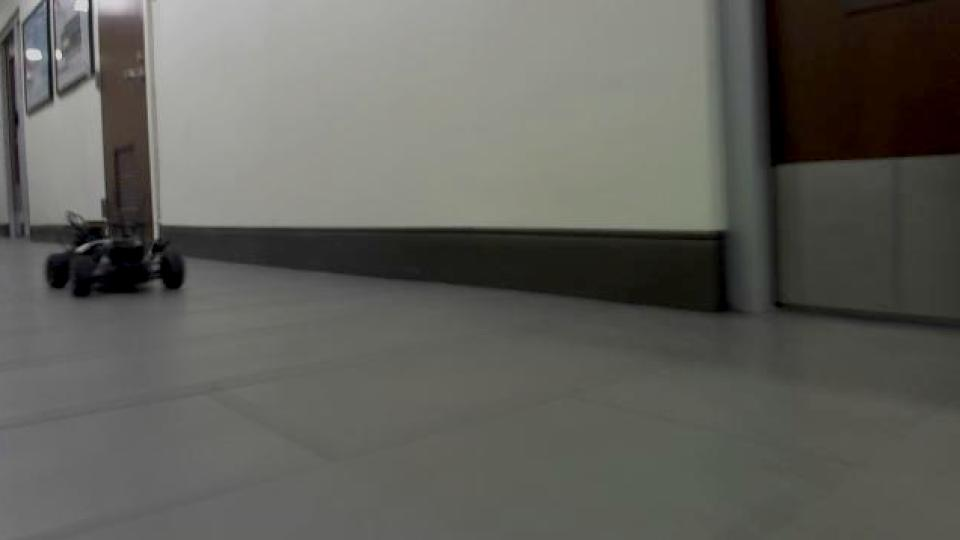car: (42, 207, 190, 300)
